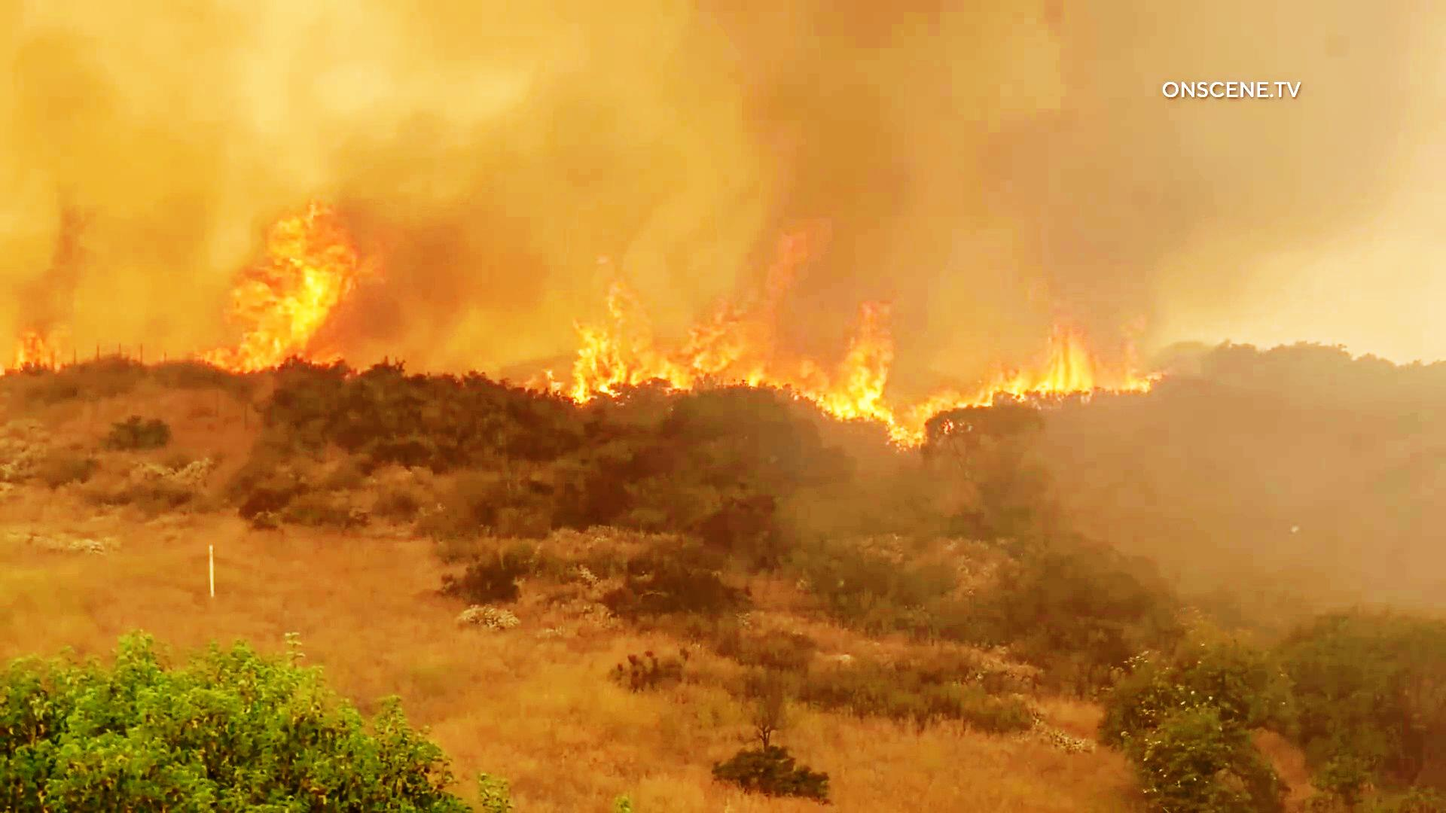fire: (921, 311, 1171, 426), (221, 174, 364, 375), (545, 258, 683, 399), (689, 236, 810, 383), (792, 303, 921, 420), (10, 324, 74, 375)
